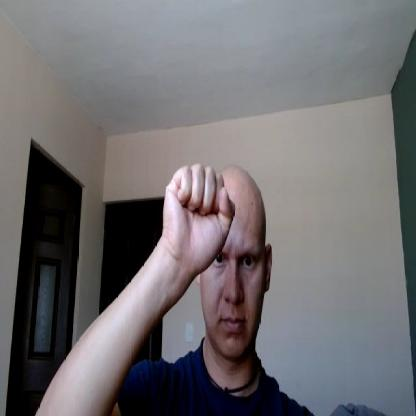S: (162, 161, 236, 266)
